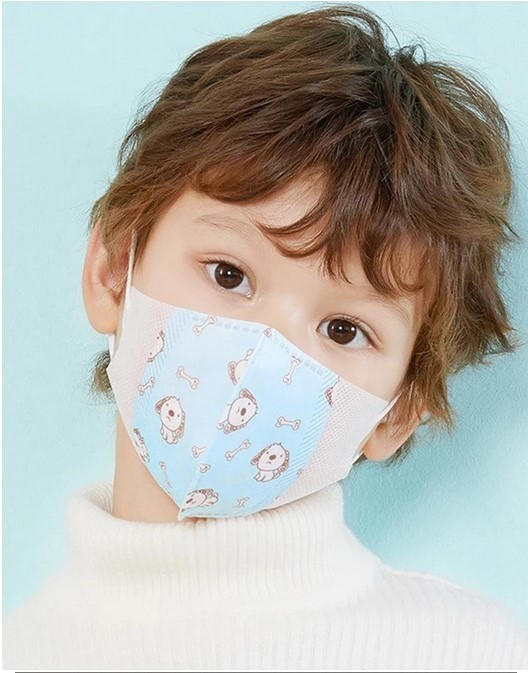face_with_mask: (83, 70, 459, 531)
